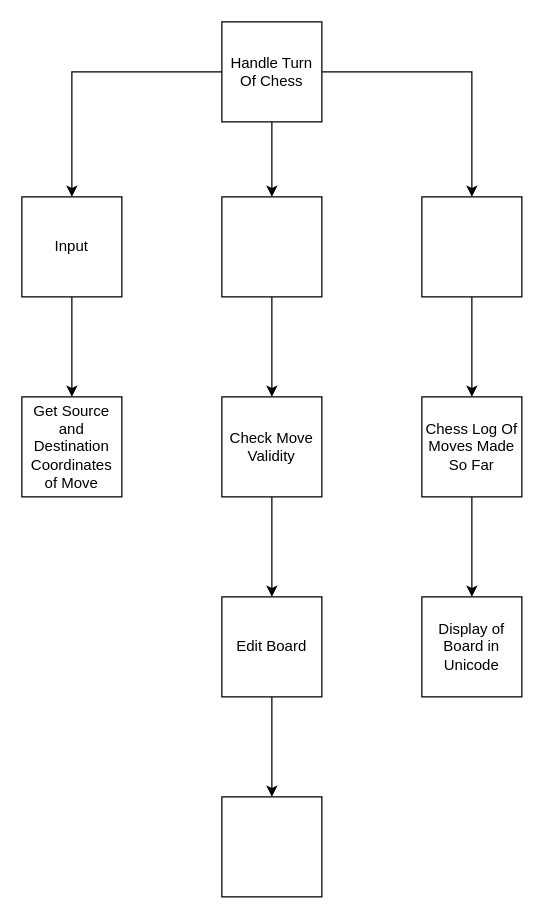
Some shapes in this 544 by 919 pixel diagram are drawn without their labels. The box of each missing label's shape, as (x1, y1, x2, y2) in pixels:
Calculate AI Move: (221, 796, 322, 897)
Output: (421, 196, 522, 297)
Process: (221, 196, 322, 297)
